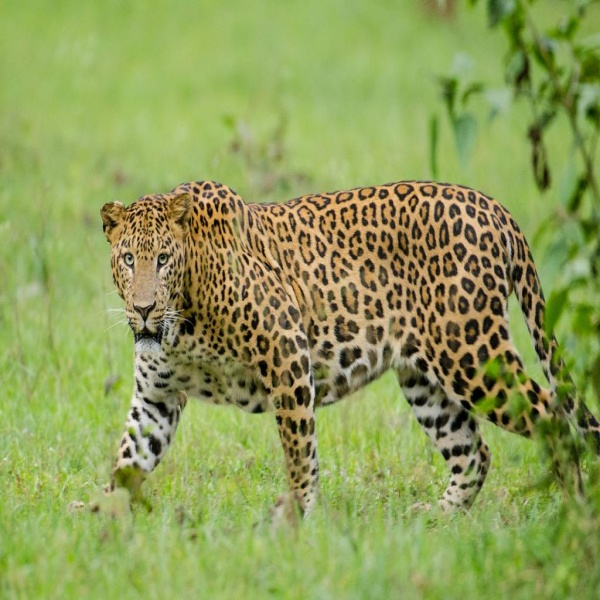Leopard: (96, 175, 598, 531)
